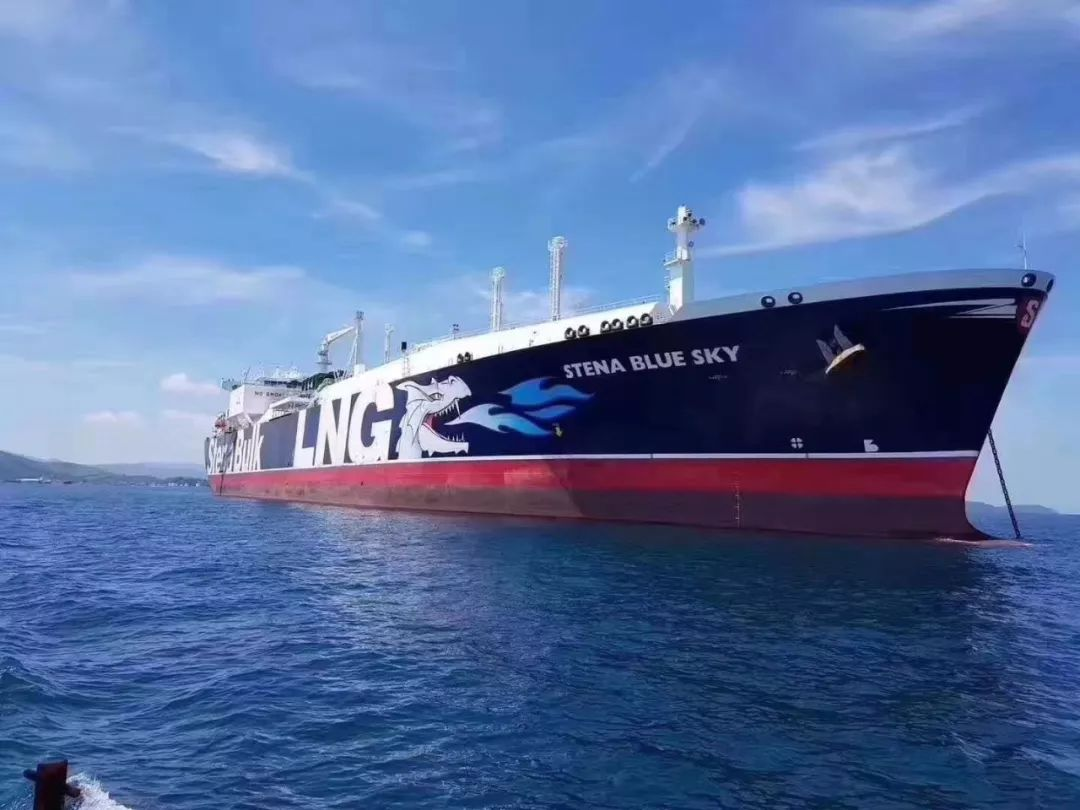Cargoship: (199, 204, 1056, 549)
